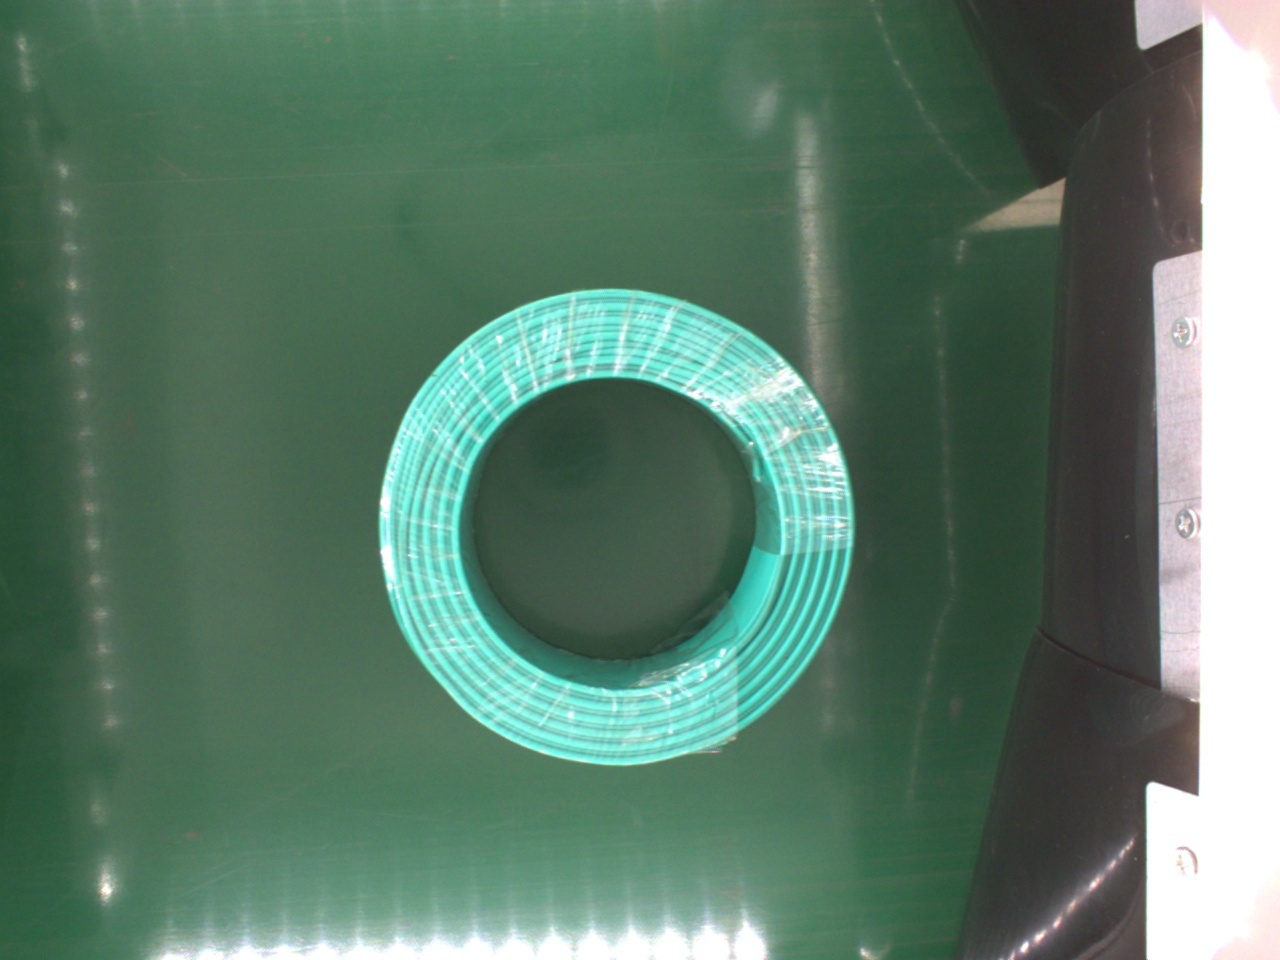green: (373, 286, 855, 771)
